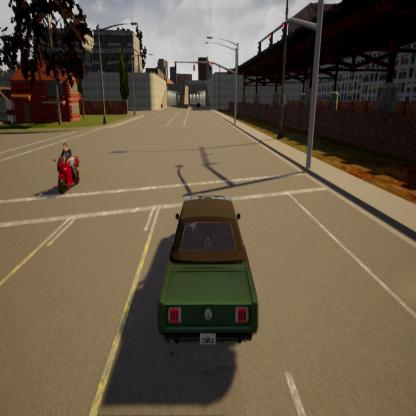Cars: (151, 165, 261, 387), (193, 96, 205, 114)
